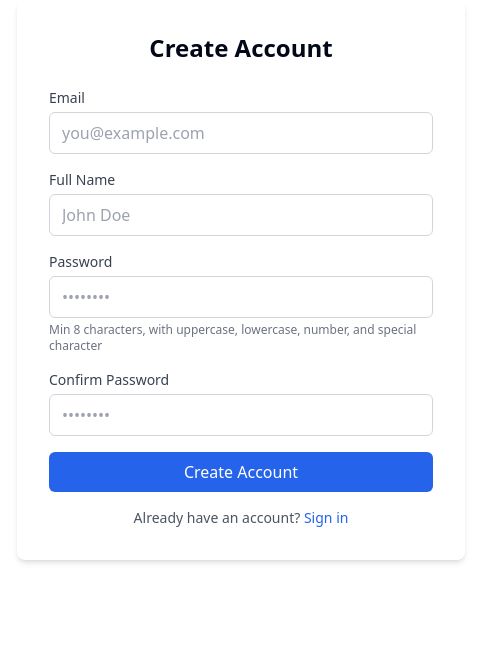
it: RegisterForm › validates email format
Type "invalid-email" into the field labelled "Email" at (241, 133), box x1=49 y1=112 x2=433 y2=154
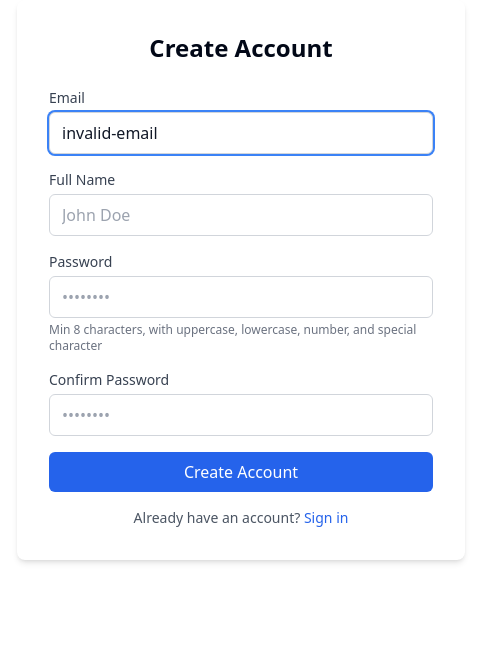
Click the button "Create Account" at (241, 472), box x1=49 y1=452 x2=433 y2=492
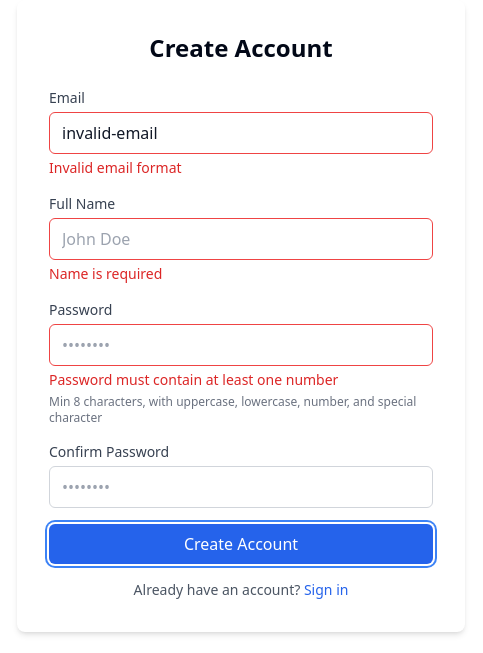
Expected: the text "Invalid email format" is shown, x1=49 y1=158 x2=182 y2=177
